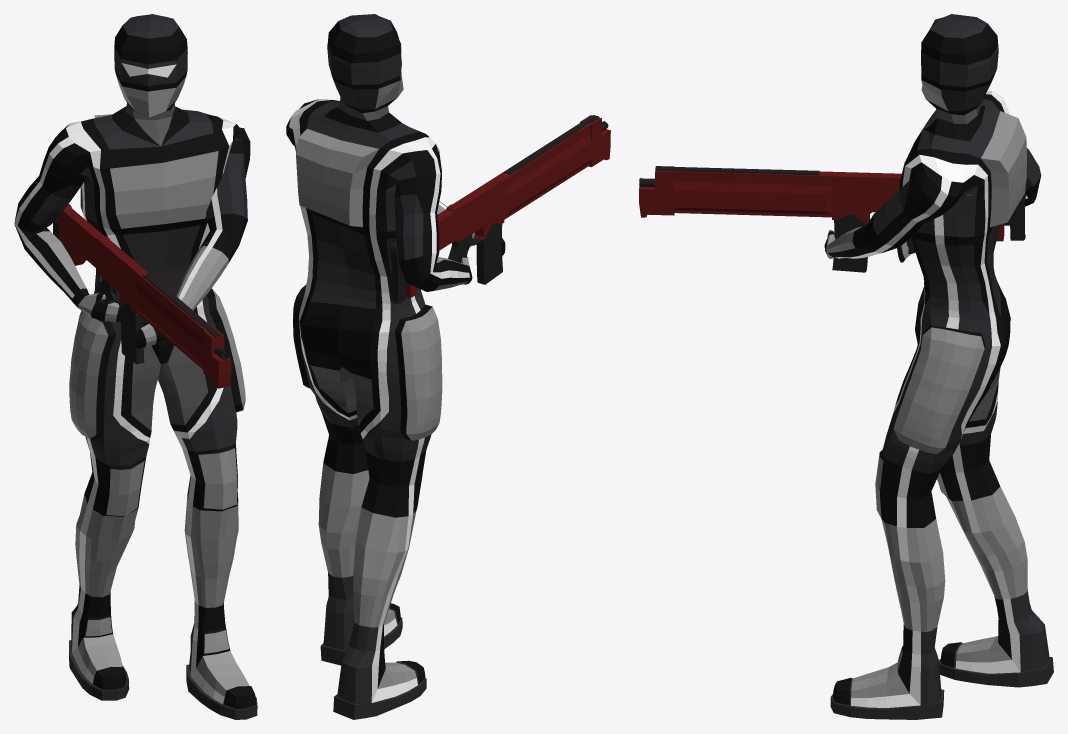
File: MCI2.obj
3 renders of one model, left to right at view 1: azimuth 30°, elevation 25°; view 2: azimuth 150°, elevation 25°; view 3: azimuth 270°, elevation 25°, orthographic.
Parts seen in each view (by area): view 1: metarig_object_metarig_mesh, Cube.001; view 2: metarig_object_metarig_mesh, Cube.001; view 3: metarig_object_metarig_mesh, Cube.001.
Boxes of the visible parts, bbox=[...] form: metarig_object_metarig_mesh: bbox=[14, 14, 257, 719]; Cube.001: bbox=[53, 204, 231, 388]; metarig_object_metarig_mesh: bbox=[286, 14, 505, 719]; Cube.001: bbox=[390, 115, 610, 303]; metarig_object_metarig_mesh: bbox=[824, 14, 1053, 719]; Cube.001: bbox=[639, 166, 1028, 272].
Size of the model in its own units: 0.4965 by 1.69 by 0.9451.
Materials: 2 (2 with a texture image).
